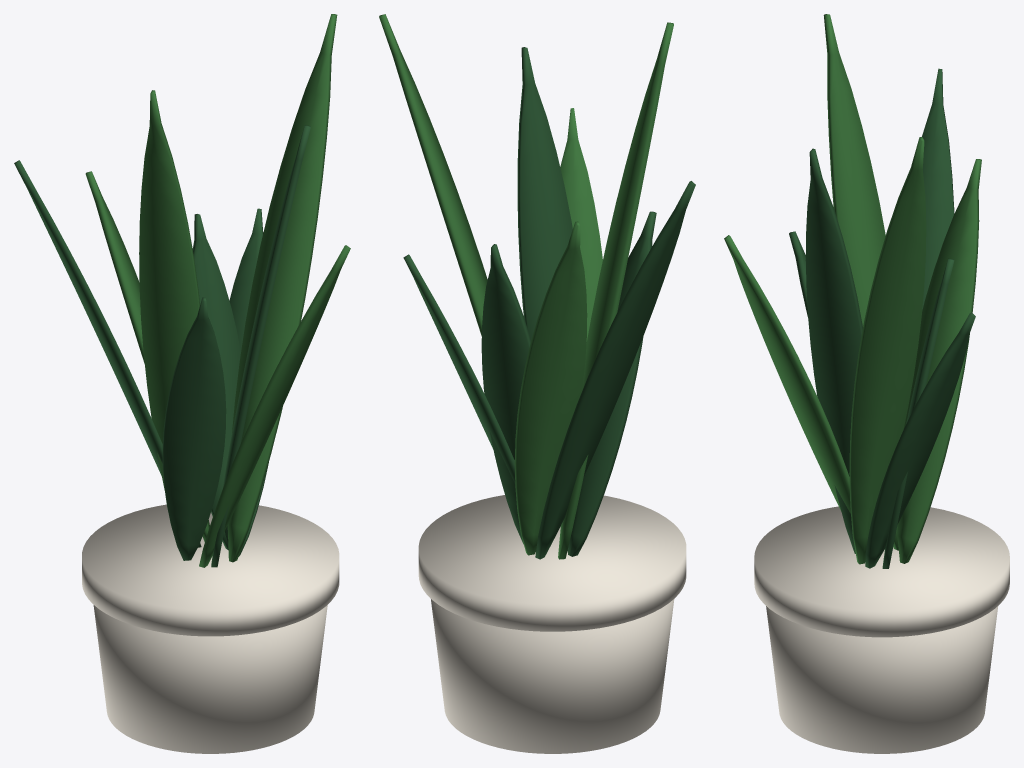
File: plant_snake.glb
3 renders of one model, left to right at view 1: azimuth 30°, elevation 25°; view 2: azimuth 150°, elevation 25°; view 3: azimuth 270°, elevation 25°, orthographic. The views are drawn at different scales.
Visible parts, largest first — view 1: plant_snake; view 2: plant_snake; view 3: plant_snake.
Part boxes in pixels (x1,y1,x2,y2): plant_snake: (14,14,350,753); plant_snake: (379,14,695,753); plant_snake: (724,14,1009,753).
Bounding box in the file's own units: 0.1741 × 0.3504 × 0.1387.
